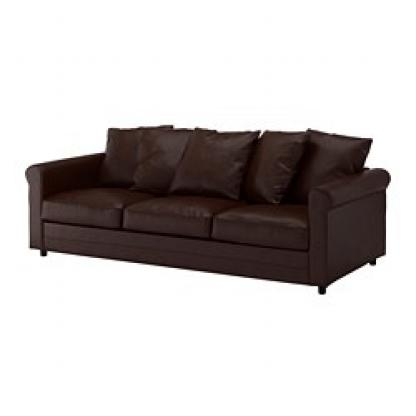Sofa: (18, 102, 391, 304)
